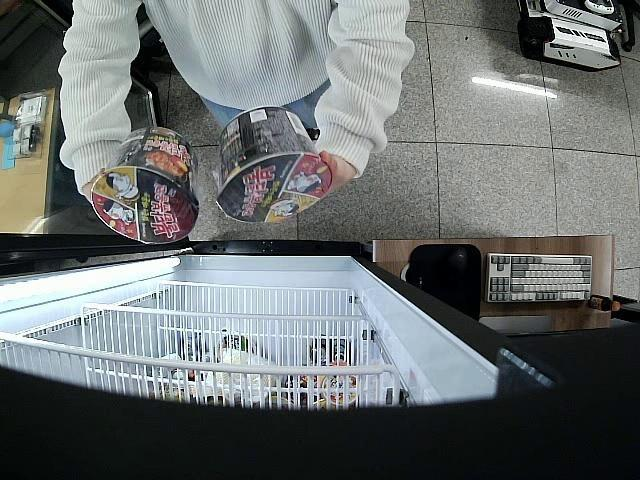07_buldak_L: (216, 107, 330, 225), (92, 126, 201, 245)
